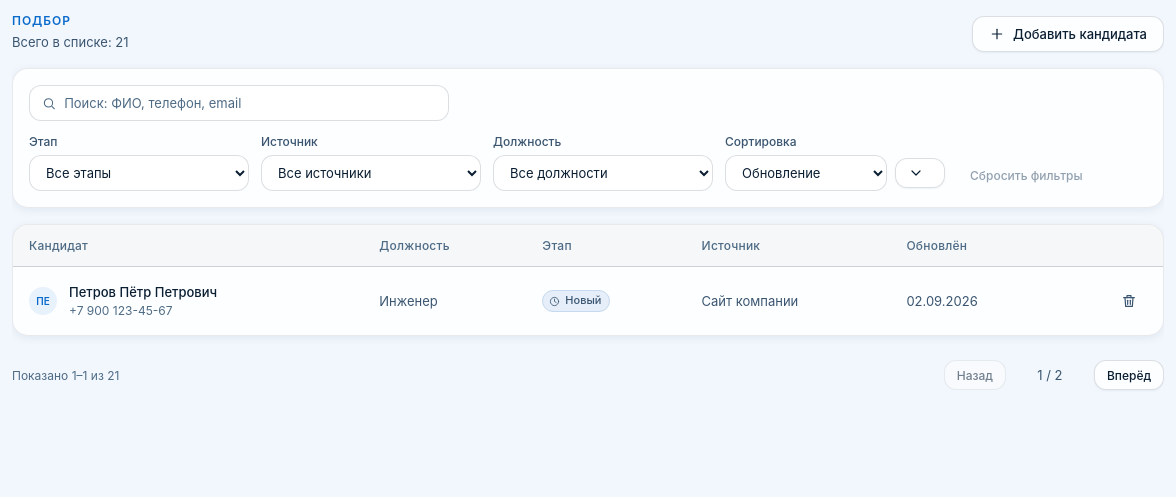
Test: CandidatesListPage › keeps an empty later page readable and allows returning after the list shrinks
Check: the text "Показано 1–1 из 21" is shown, box [12,366,119,384]
What coordinates should you click on to do the following:
click the button "Вперёд"
I would click on:
 (1129, 375)
Its box is [1094,360,1164,390].
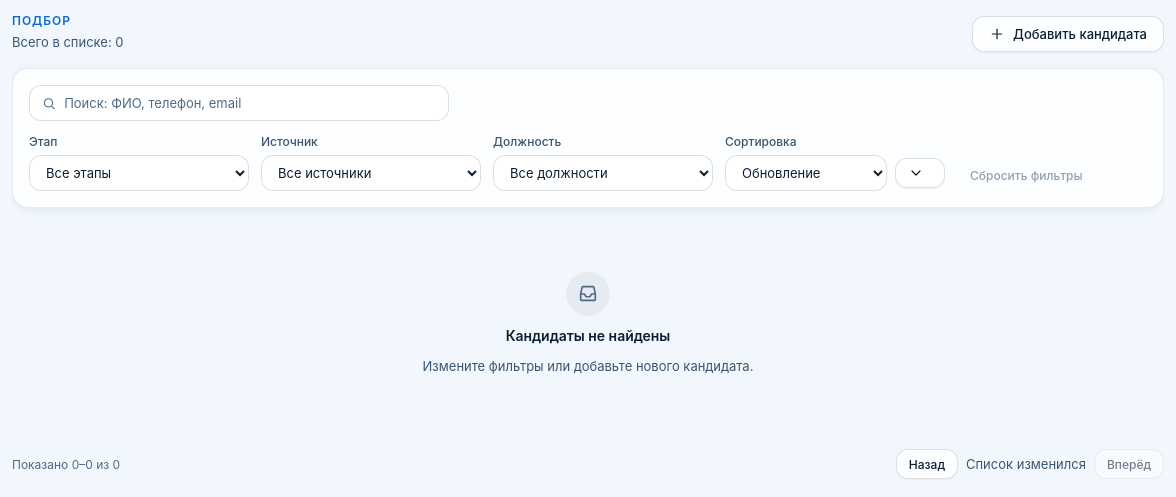
Check: the text "Показано 0–0 из 0" is shown, box [12,456,120,473]
Check: the button "Назад" is enabled
What coordinates should you click on to do the following:
click the button "Назад"
I would click on:
 (927, 464)
Its box is [896,449,958,479].
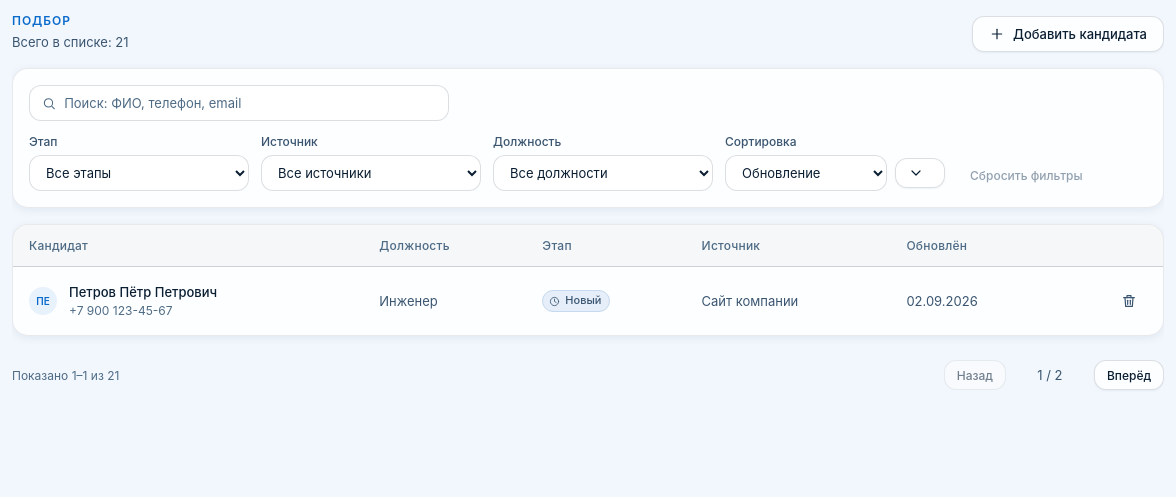
Check: the text "Показано 1–1 из 21" is shown, box [12,366,119,384]
